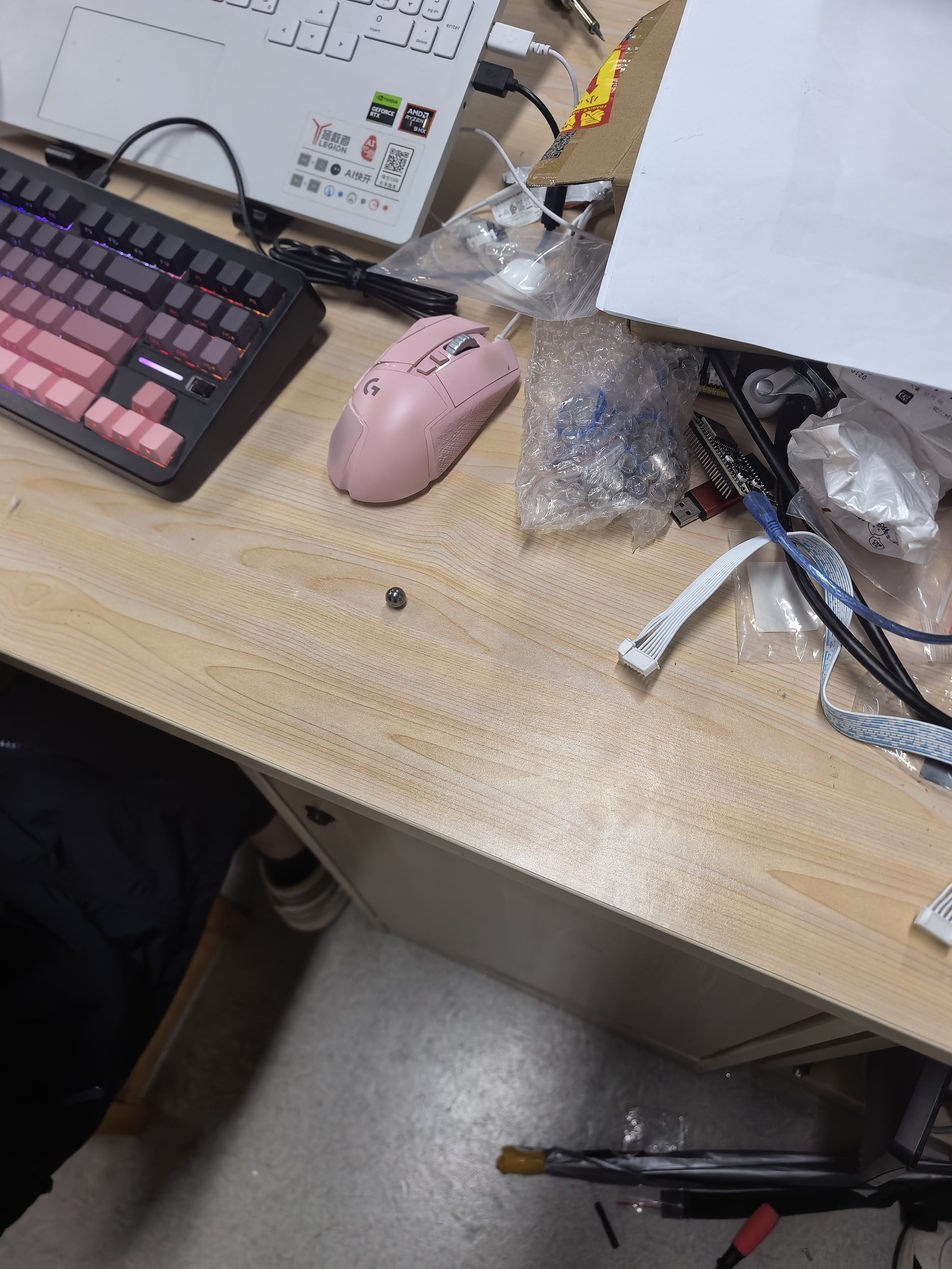ball: (384, 588, 409, 613)
